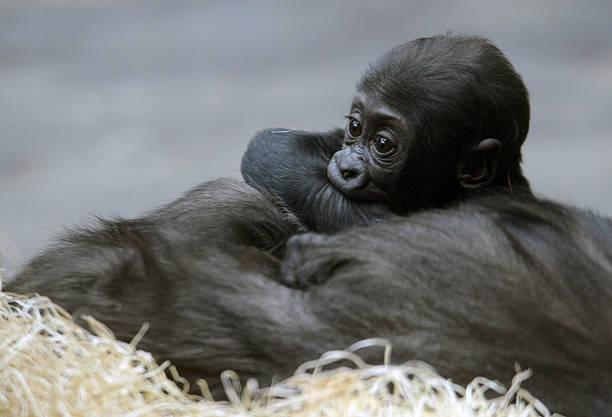gorille_Autres: (218, 1, 612, 354)
